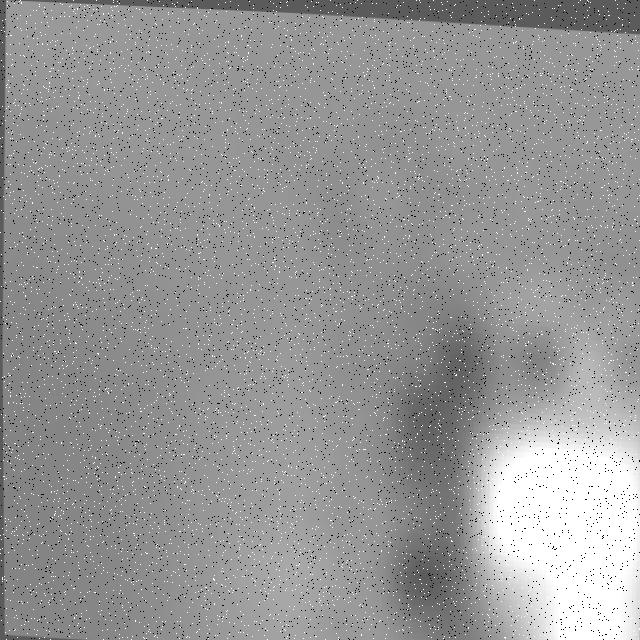person: (463, 268, 640, 640)
